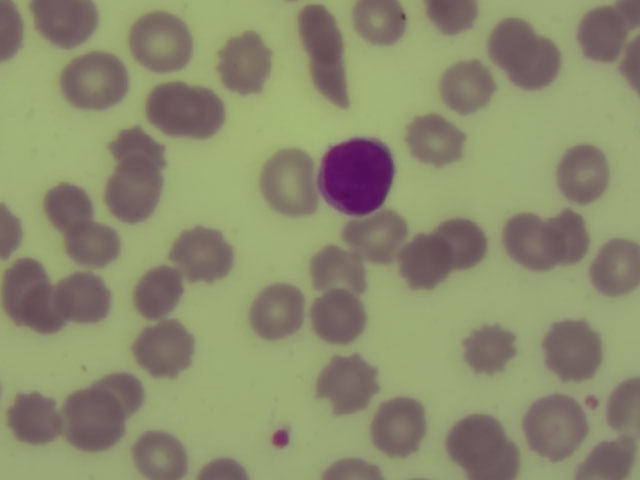Platelets: (273, 428, 289, 446), (588, 396, 597, 409)
RBC: (301, 10, 358, 118), (99, 158, 169, 226), (261, 150, 318, 221), (375, 390, 431, 458), (169, 225, 231, 282), (546, 318, 603, 380), (533, 395, 587, 460), (322, 356, 378, 417), (70, 389, 126, 450), (439, 56, 497, 114), (131, 14, 193, 68), (404, 112, 468, 164), (134, 324, 189, 382), (225, 31, 271, 100), (446, 417, 501, 474), (351, 214, 410, 267), (309, 289, 367, 342), (512, 33, 564, 91), (56, 271, 114, 323), (33, 2, 98, 48), (251, 282, 303, 339), (400, 233, 454, 287), (433, 219, 489, 271), (69, 55, 126, 105), (134, 258, 183, 315), (9, 261, 49, 330), (465, 323, 516, 377), (68, 220, 121, 271), (561, 143, 604, 205), (597, 236, 640, 297), (10, 395, 61, 446), (512, 214, 557, 270), (173, 86, 222, 137), (316, 249, 372, 291), (139, 430, 186, 480), (353, 3, 407, 46), (582, 10, 624, 64), (496, 18, 537, 73), (45, 182, 93, 227), (479, 435, 525, 480), (25, 283, 64, 334), (426, 1, 482, 35), (592, 439, 638, 480), (115, 130, 163, 168), (317, 454, 384, 480), (612, 374, 640, 430), (104, 377, 144, 416), (149, 88, 180, 133), (3, 3, 26, 63), (2, 205, 24, 258), (204, 457, 246, 480), (622, 38, 638, 97), (615, 2, 640, 27)
WBC: (322, 138, 394, 215)
